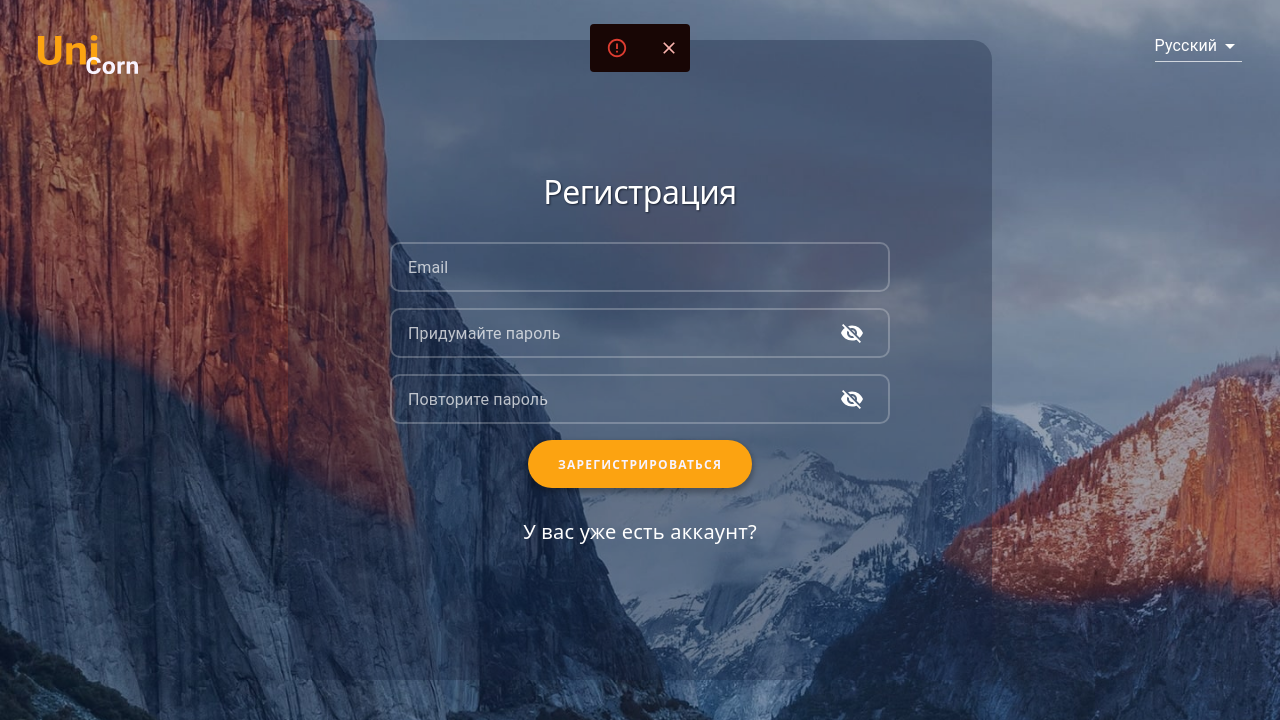
Scenario: Register page › This happens when you enter without password1
Type "register@cypress.io" into the element with test id "register-email".
click(640, 267); type("register@cypress.io")  # box [390, 242, 890, 292]
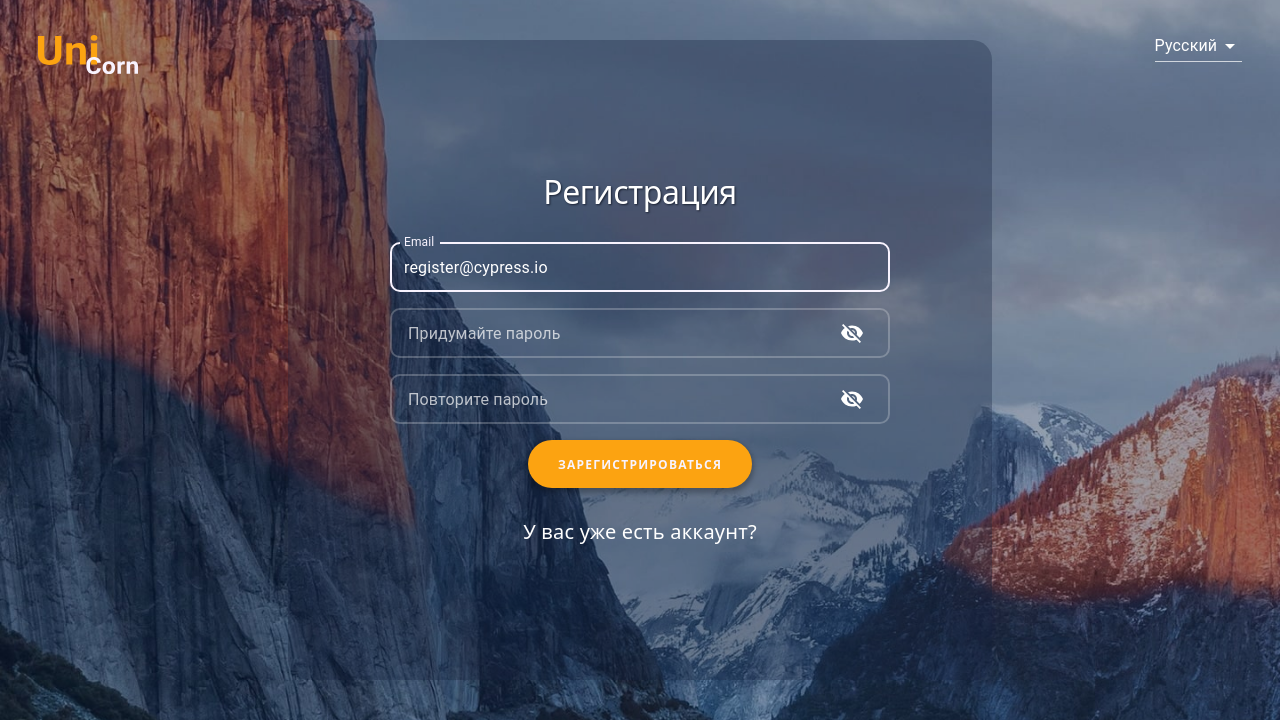
Expected: the element with test id "password1" is shown, [390, 308, 890, 358]
Type "dummy@dummy" into the element with test id "password2".
click(640, 399); type("dummy@dummy")  # box [390, 374, 890, 424]
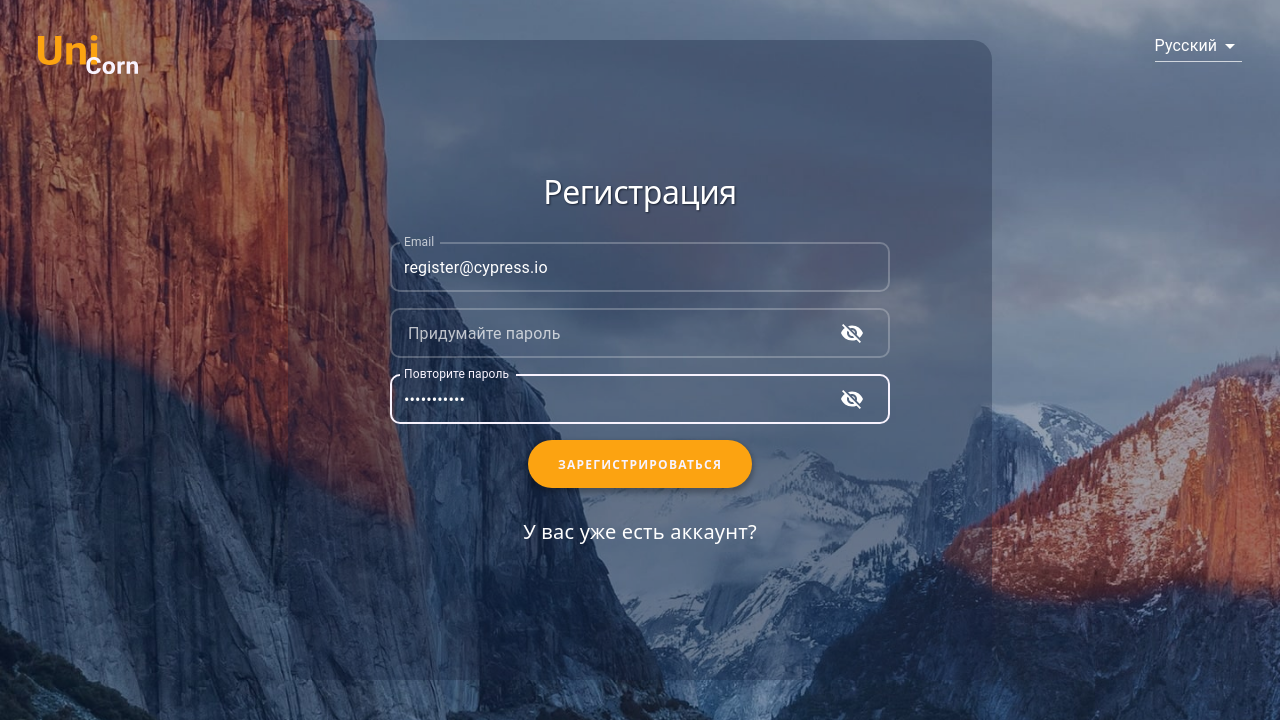
Click the button with test id "register-button".
click(640, 464)  # box [528, 440, 752, 488]
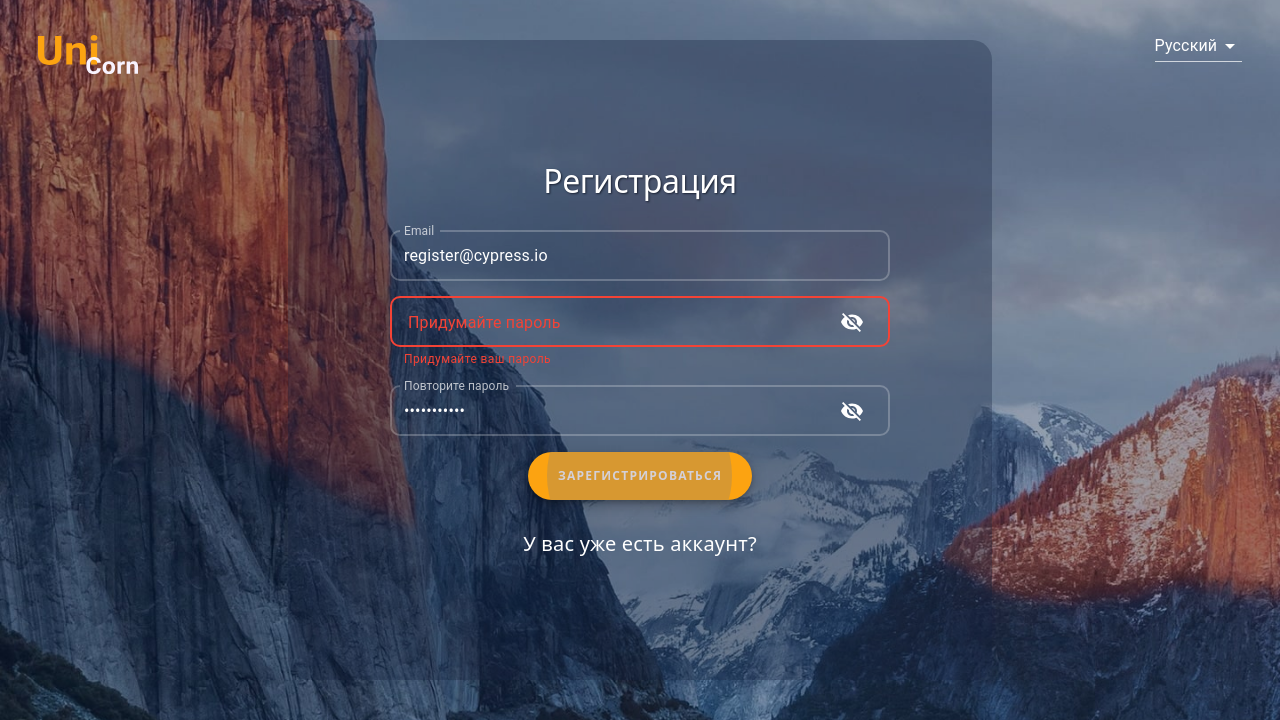
Now the text "Придумайте ваш пароль" is shown, box [404, 352, 551, 366]
